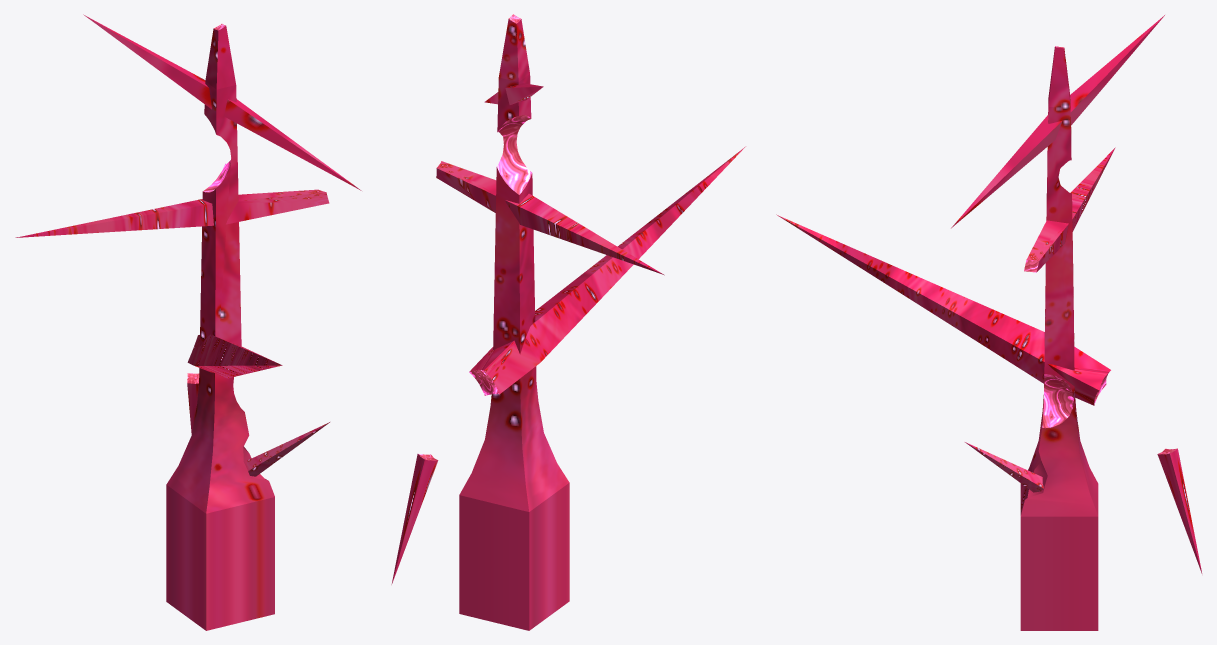
Rendered from AltarOfDistortion.fbx.
The picture shows the model from 3 angles, left to right: view 1: azimuth 30°, elevation 25°; view 2: azimuth 150°, elevation 25°; view 3: azimuth 270°, elevation 25°; orthographic projection. The views are drawn at different scales.
Parts seen in each view (by area): view 1: Battered; view 2: Battered; view 3: Battered.
Part boxes in pixels (x1,y1,x2,y2): Battered: (15,14,361,630); Battered: (391,14,745,630); Battered: (776,15,1202,630).
Size of the model in its own units: 335 by 696 by 474.
1 material, 1 textured.
